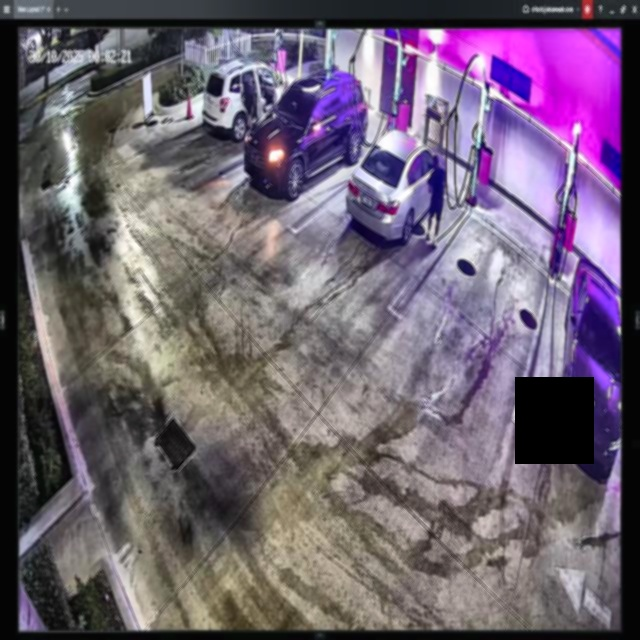Car: (243, 65, 365, 200), (345, 127, 445, 244)
